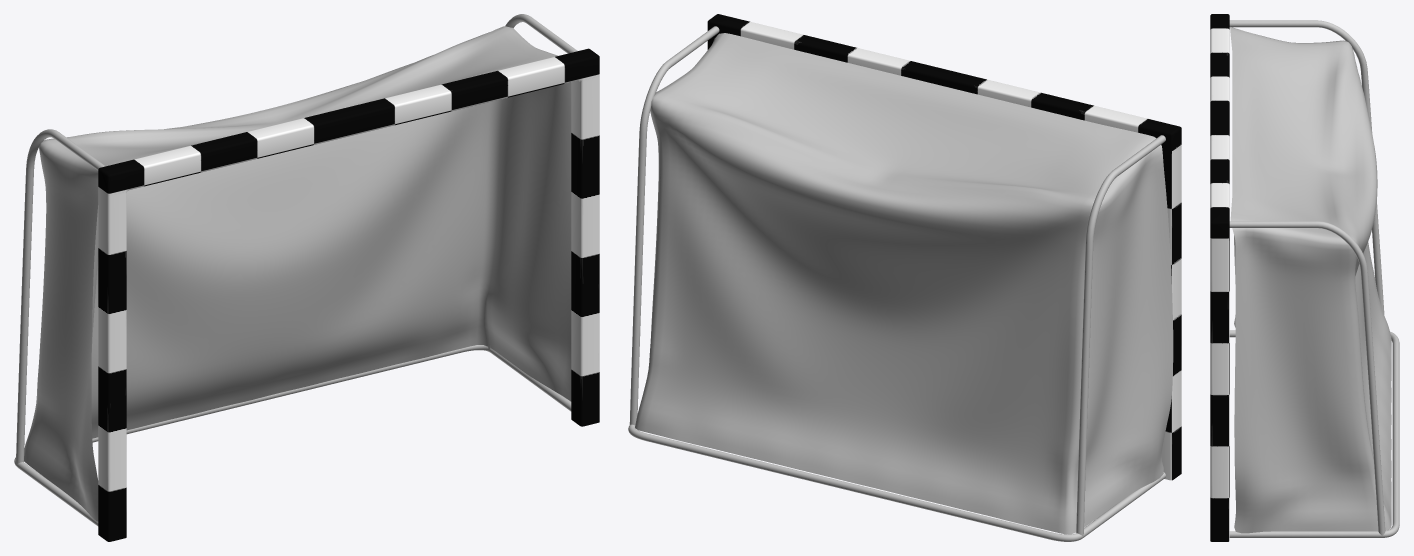
Rendered from objSoccergoal.obj.
The picture shows the model from 3 angles, left to right: view 1: azimuth 30°, elevation 25°; view 2: azimuth 150°, elevation 25°; view 3: azimuth 270°, elevation 25°; orthographic projection. The views are drawn at different scales.
Parts seen in each view (by area): view 1: Net.001, Pole, pole.001; view 2: Net.001, Pole, pole.001; view 3: Net.001, Pole, pole.001.
Boxes of the visible parts, x1,y1,x2,y2 form: Net.001: [24, 26, 571, 521]; Pole: [98, 48, 599, 541]; pole.001: [14, 14, 577, 526]; Net.001: [635, 33, 1173, 534]; Pole: [707, 14, 1181, 480]; pole.001: [628, 26, 1165, 541]; Net.001: [1230, 27, 1391, 533]; Pole: [1210, 14, 1229, 541]; pole.001: [1229, 20, 1399, 537].
Size of the model in its own units: 2.84 by 2 by 1.07.
